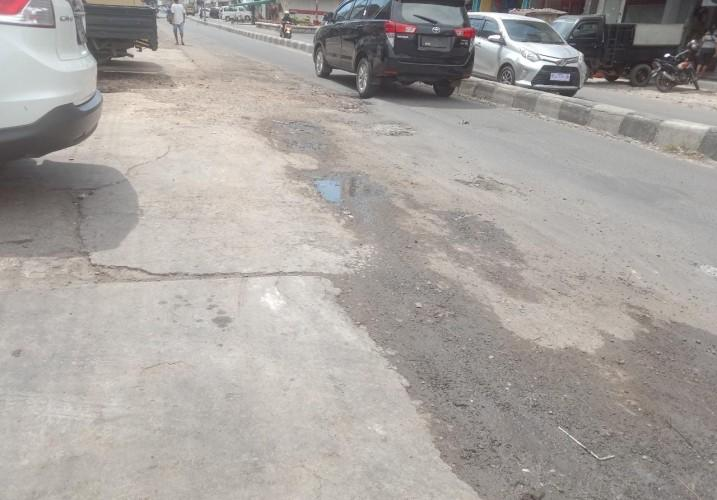Pothole: (0, 150, 226, 327), (282, 126, 388, 226), (445, 158, 533, 216), (368, 98, 420, 148)
